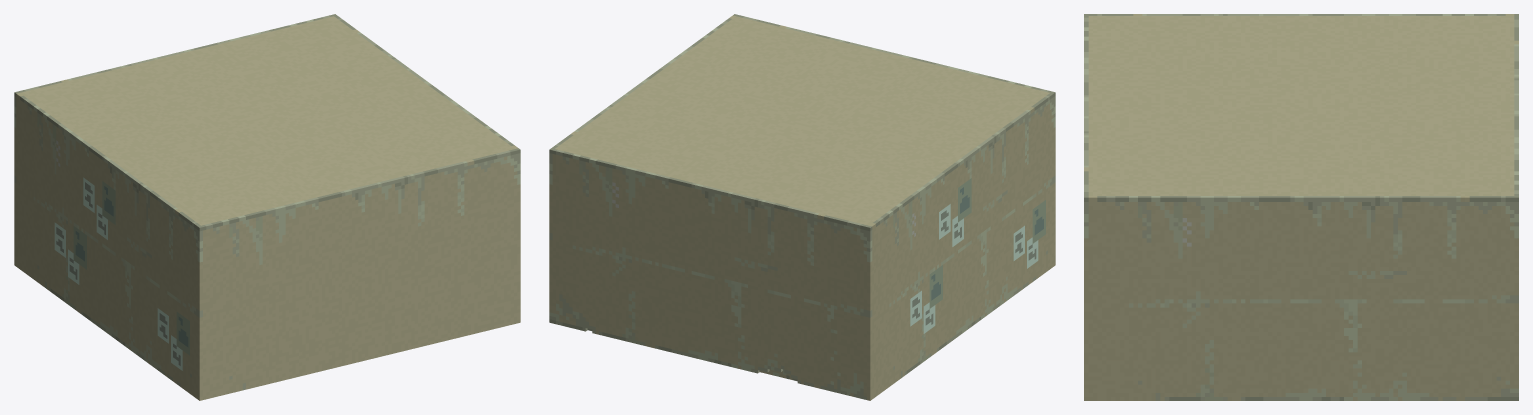
Rendered from VoxelNuke-2-BuildingBlock-0.obj.
3 renders of one model, left to right at view 1: azimuth 30°, elevation 25°; view 2: azimuth 150°, elevation 25°; view 3: azimuth 270°, elevation 25°, orthographic. The views are drawn at different scales.
Parts seen in each view (by area): view 1: BuildingBlock-0; view 2: BuildingBlock-0; view 3: BuildingBlock-0.
Boxes of the visible parts, bbox=[...] form: BuildingBlock-0: bbox=[14, 14, 520, 400]; BuildingBlock-0: bbox=[549, 14, 1055, 400]; BuildingBlock-0: bbox=[1084, 14, 1518, 400].
Size of the model in its own units: 1.94 by 1 by 1.94.
1 material, 1 textured.
